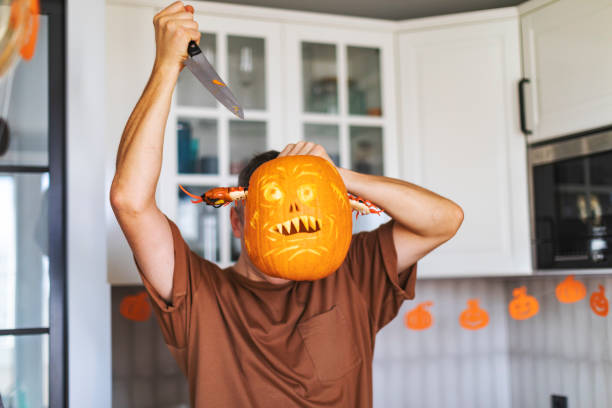knife: (185, 41, 246, 120)
